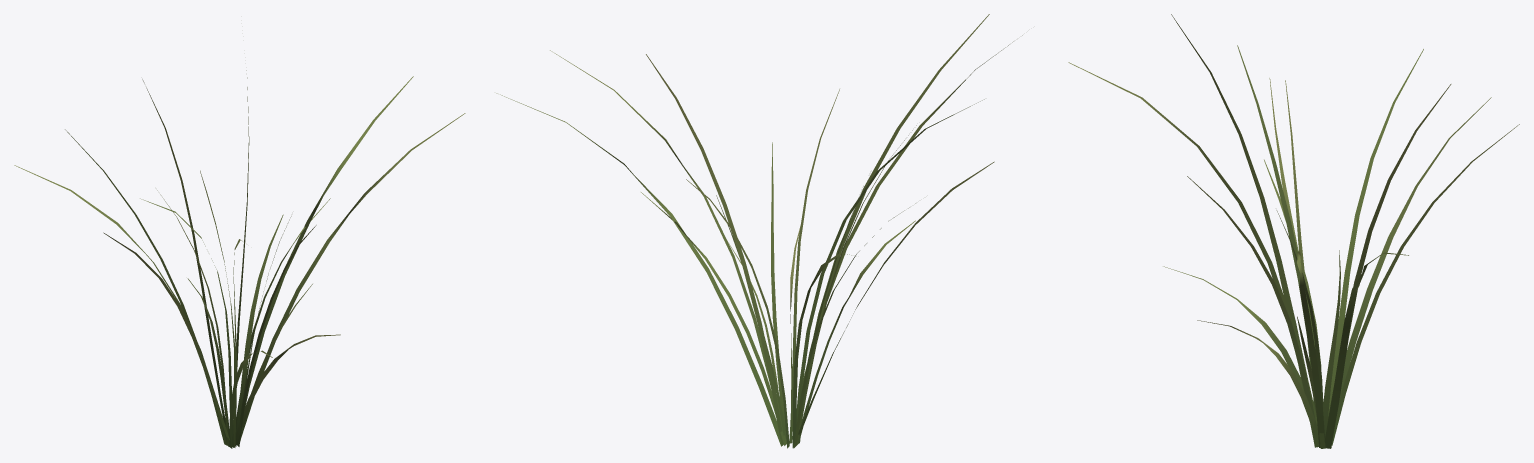
The model's file is eelgrass_2.glb.
3 renders of one model, left to right at view 1: azimuth 30°, elevation 25°; view 2: azimuth 150°, elevation 25°; view 3: azimuth 270°, elevation 25°, orthographic. The views are drawn at different scales.
Visible parts, largest first — view 1: eelgrass_2; view 2: eelgrass_2; view 3: eelgrass_2.
Part boxes in pixels (left/top/right/bottom): eelgrass_2: left=14, top=70, right=465, bottom=448; eelgrass_2: left=496, top=14, right=1022, bottom=448; eelgrass_2: left=1068, top=14, right=1519, bottom=448.
Bounding box in the file's own units: 1.31 × 1.23 × 1.26.
